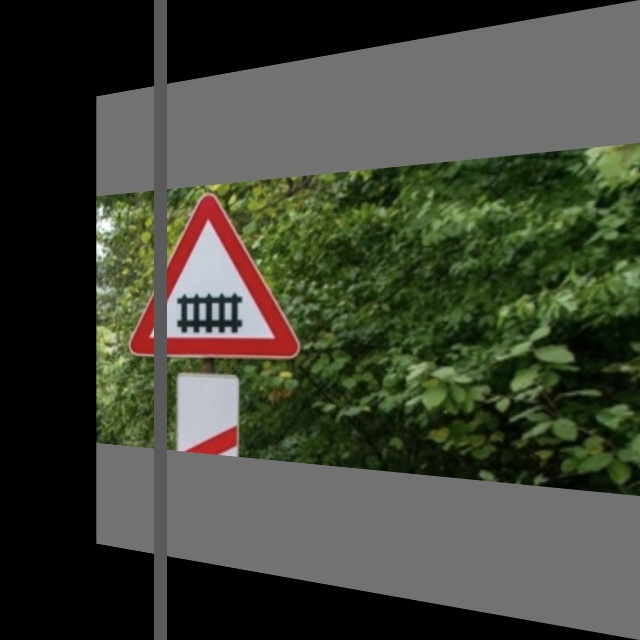Guarded_Level_Crossing: (131, 192, 294, 357)
